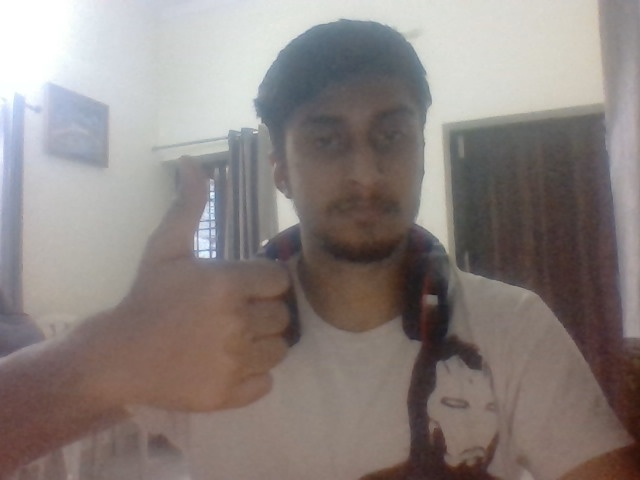ThumbsUp: (126, 156, 290, 412)
